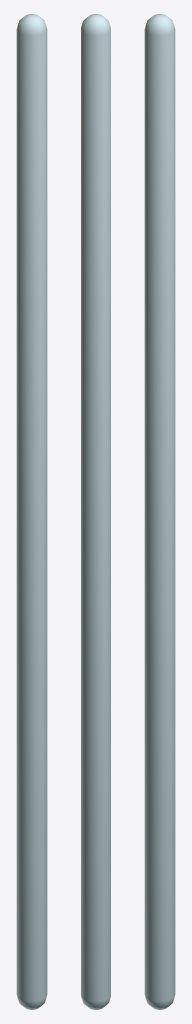
Rendered from VLAB_stir_rod.fbx.
3 renders of one model, left to right at view 1: azimuth 90°, elevation 25°; view 2: azimuth 150°, elevation 25°; view 3: azimuth 270°, elevation 25°, orthographic.
Visible parts, largest first — view 1: VLAB_stir_rod_Rod_VIS; view 2: VLAB_stir_rod_Rod_VIS; view 3: VLAB_stir_rod_Rod_VIS.
Part boxes in pixels (<box>): VLAB_stir_rod_Rod_VIS: <box>16,14,47,1009</box>; VLAB_stir_rod_Rod_VIS: <box>81,14,110,1009</box>; VLAB_stir_rod_Rod_VIS: <box>144,14,175,1009</box>.
Bounding box in the file's own units: 0.005 × 0.18 × 0.005.
